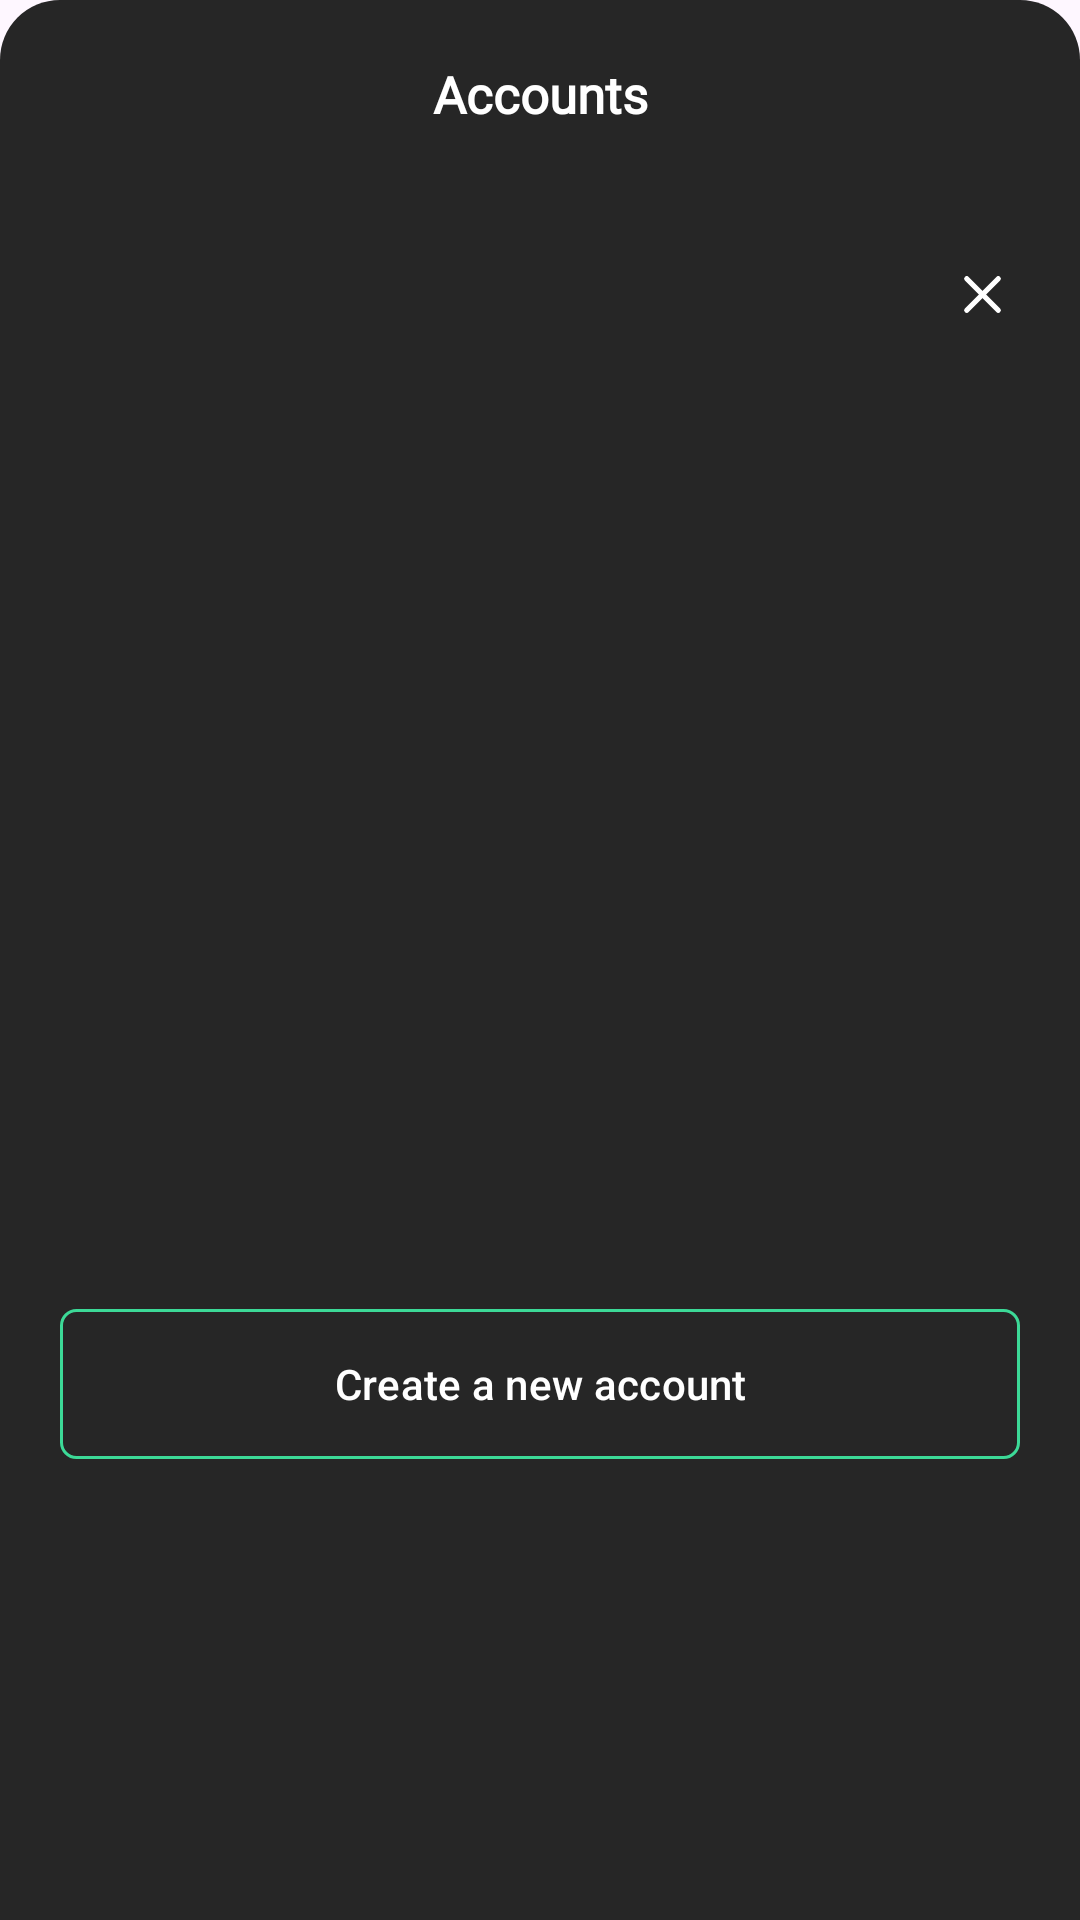

Icon click points for this 1080px x 1920px phone screenshot, format [x,y]:
cross: [982,294]
